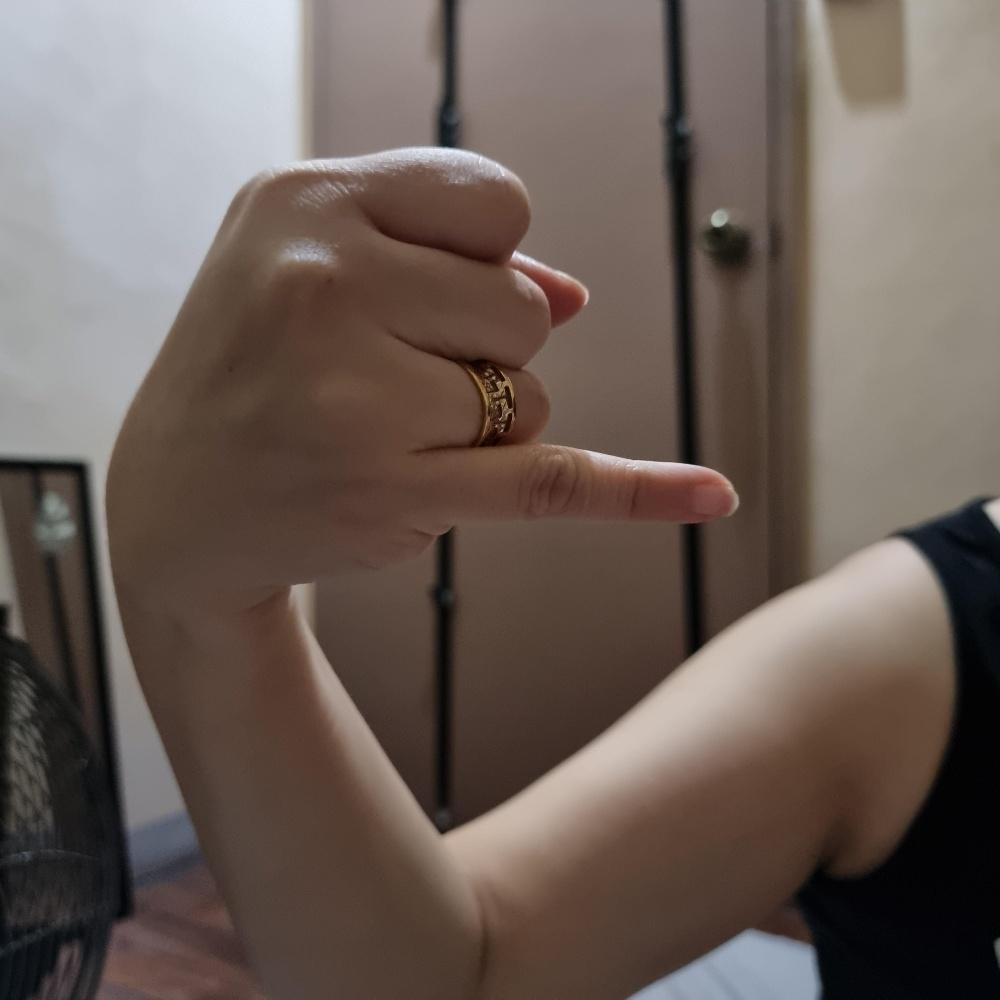j: (101, 131, 746, 597)
